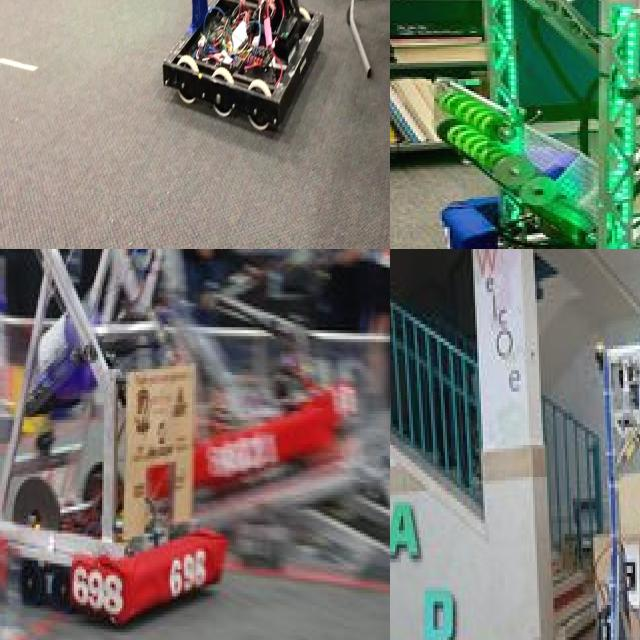FRC-Robots: (0, 249, 224, 636), (409, 0, 640, 249), (555, 317, 640, 640), (159, 0, 329, 140), (196, 339, 332, 468), (336, 387, 376, 419)
